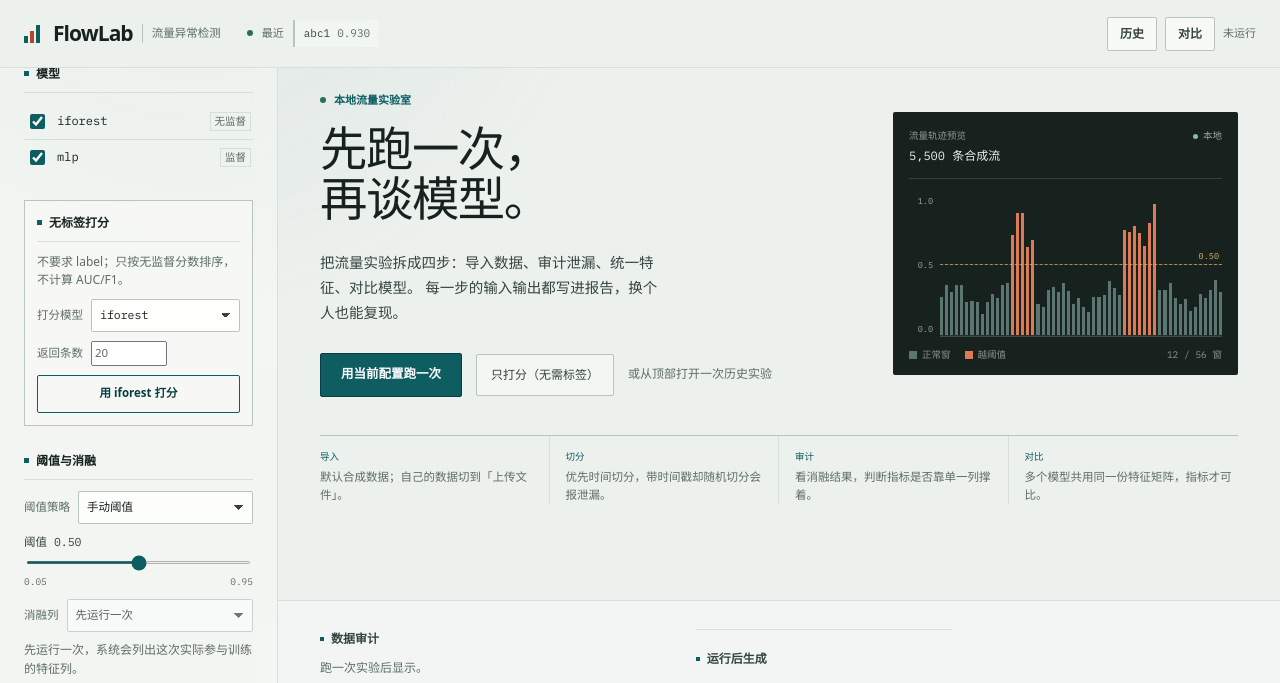
Test: App history restore › scores an unlabeled upload without requiring evaluation labels
Earlier steps of the test are not shown.
(page scrolled)
Click the button "用 iforest 打分": (138,394) x1=37 y1=375 x2=240 y2=413
(page scrolled)
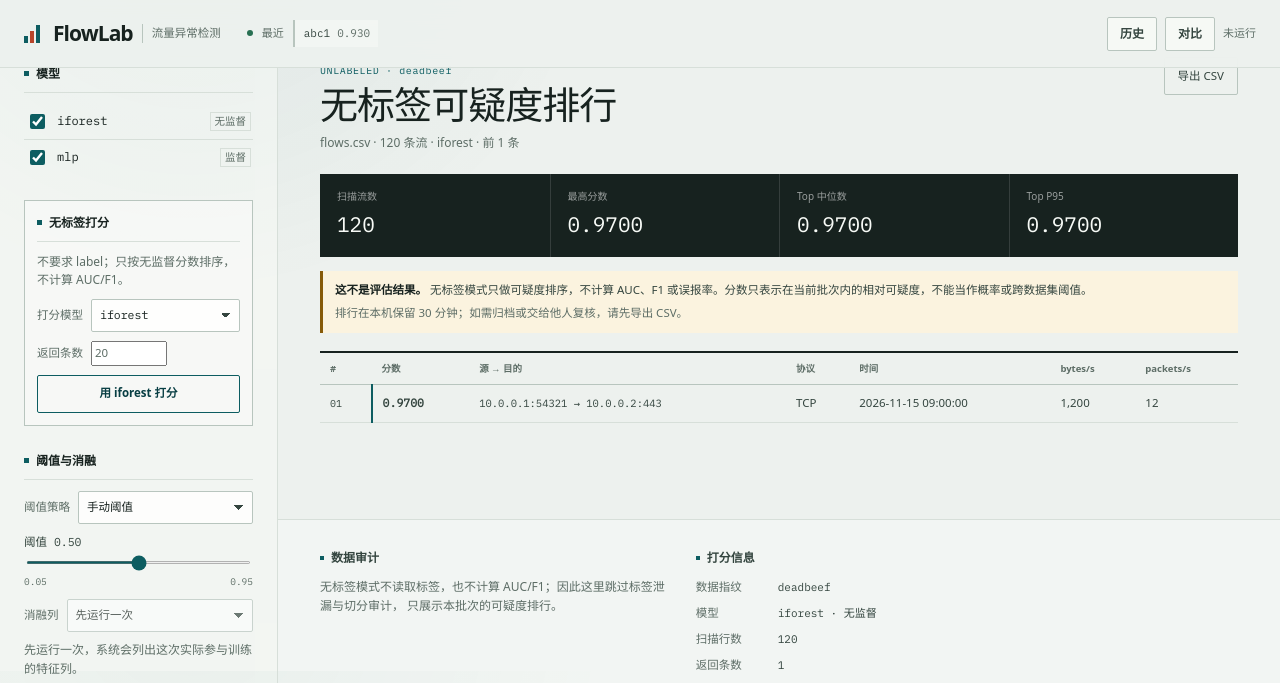
expect the heading "无标签可疑度排行" is shown: met, box x1=320 y1=86 x2=616 y2=128
expect the text "不计算 AUC、F1 或误报率" is shown: met, box x1=430 y1=282 x2=724 y2=297
expect the text "排行在本机保留 30 分钟；如需归档或交给他人复核，请先导出 CSV。" is shown: met, box x1=335 y1=305 x2=688 y2=320
